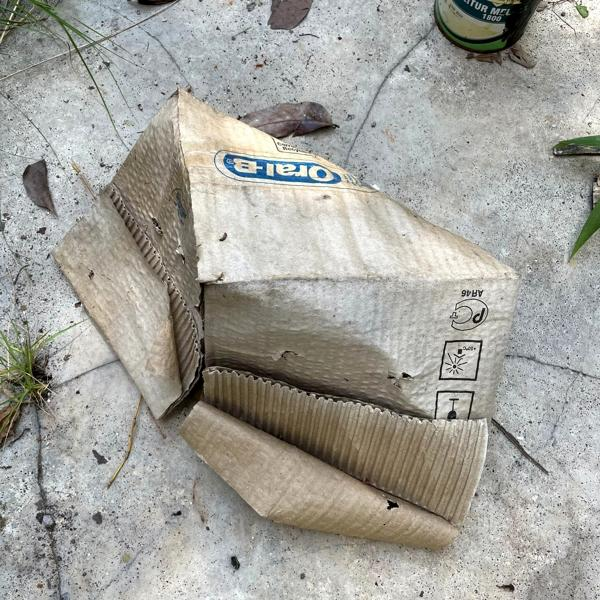Organik: (34, 81, 523, 561)
